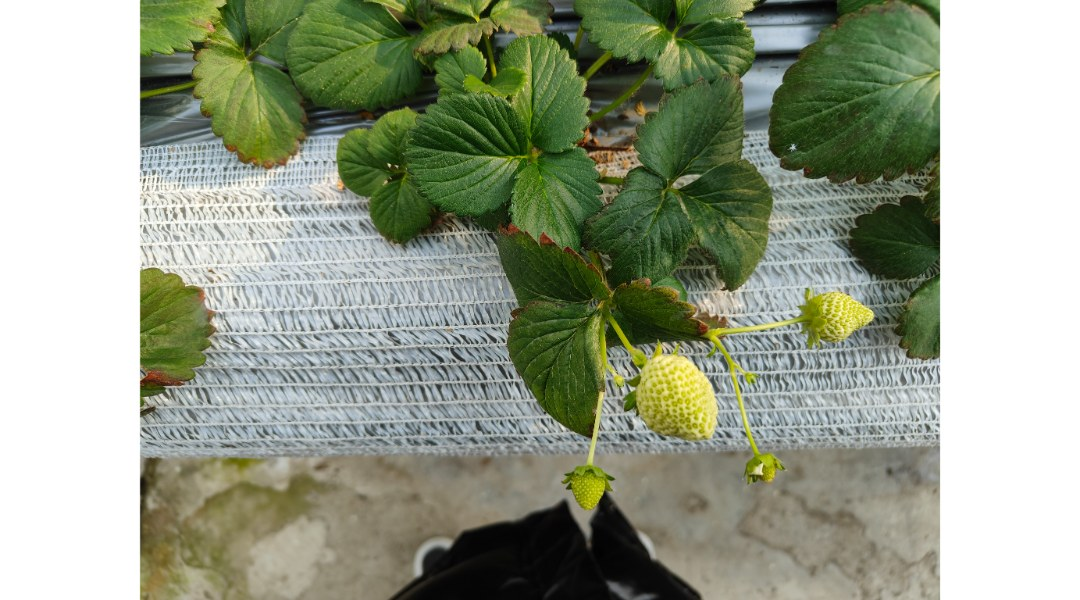berry: (636, 335, 719, 456), (776, 283, 887, 355), (561, 465, 619, 526), (741, 444, 795, 485), (738, 360, 758, 391)
strain: (721, 339, 759, 456), (721, 311, 805, 335), (609, 312, 643, 363), (588, 387, 600, 468)
